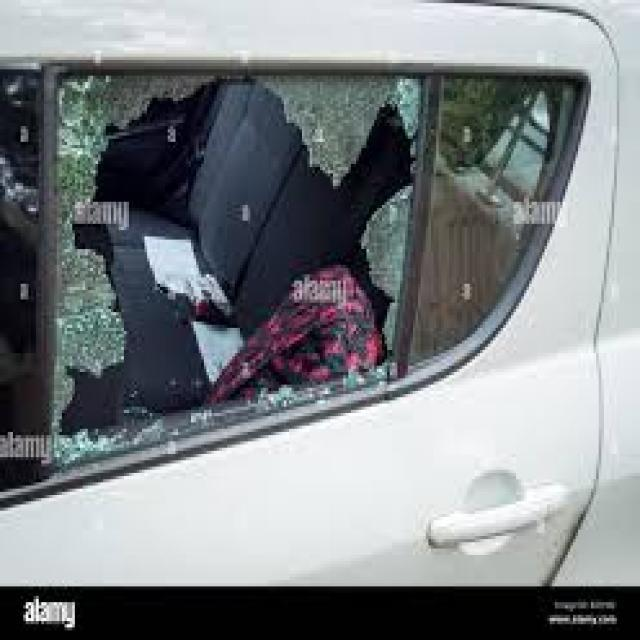damaged-window: (33, 50, 443, 462)
